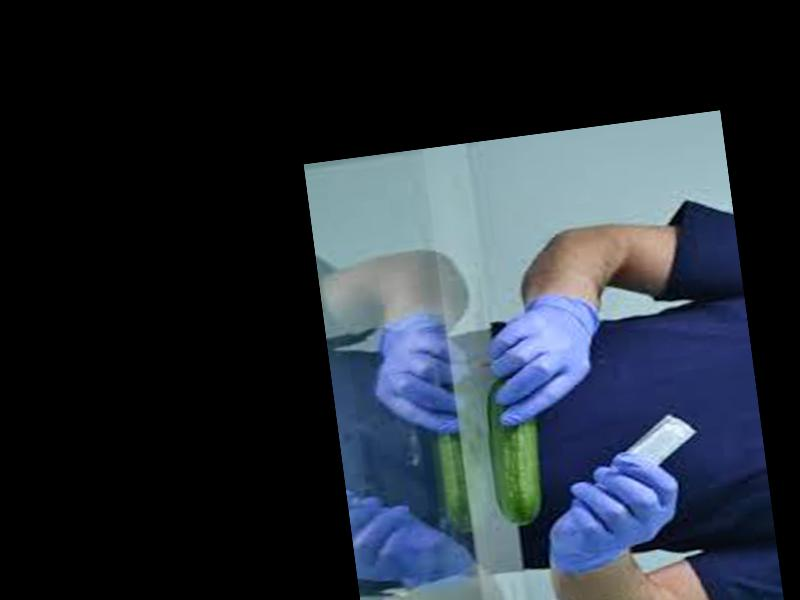Cucumber: (480, 376, 549, 528)
